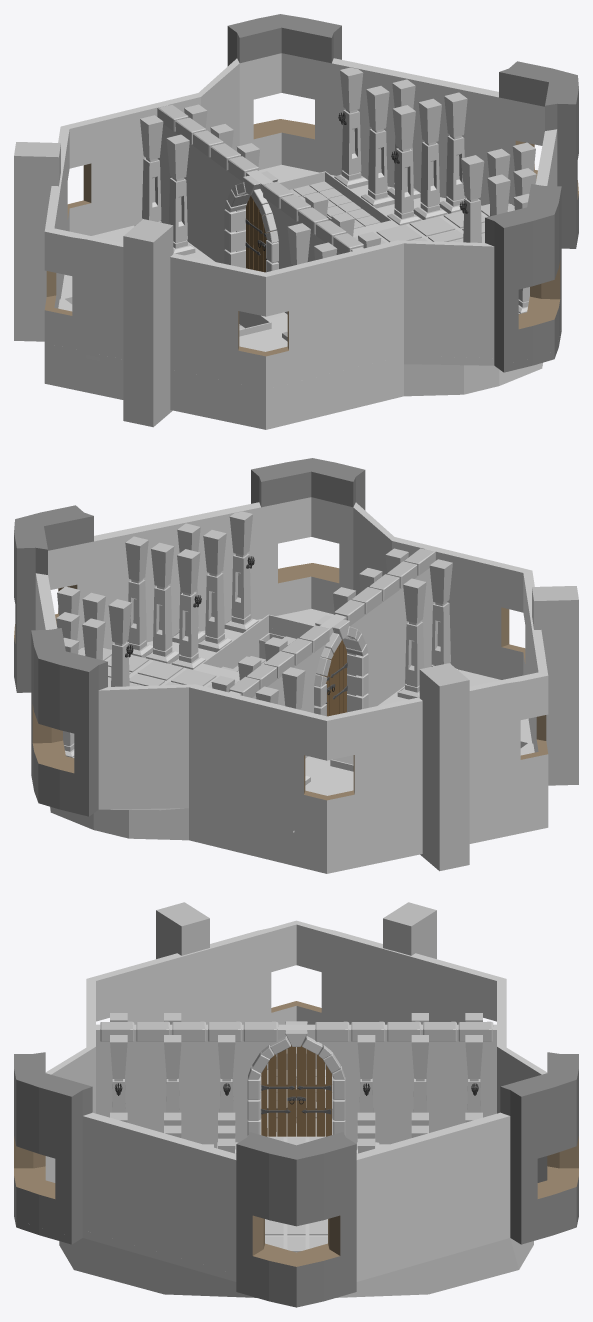
File: secondfloor.fbx
3 views of the same model, one above another, from view 1: azimuth 30°, elevation 25°; view 2: azimuth 150°, elevation 25°; view 3: azimuth 270°, elevation 25° (orthographic). The views are drawn at different scales.
Parts seen in each view (by area): view 1: SecondFloor, WALL3, WALL1, WALL2, lvl8; view 2: SecondFloor, WALL3, WALL2, WALL1; view 3: SecondFloor, WALL1, WALL2, WALL3.
Boxes of the visible parts, left/top/right/bottom form: SecondFloor: left=44, top=67, right=542, bottom=429; WALL3: left=14, top=126, right=265, bottom=429; WALL1: left=198, top=14, right=577, bottom=205; WALL2: left=397, top=75, right=578, bottom=372; lvl8: left=290, top=181, right=380, bottom=229; SecondFloor: left=50, top=511, right=544, bottom=873; WALL3: left=327, top=570, right=578, bottom=873; WALL2: left=15, top=458, right=394, bottom=649; WALL1: left=14, top=519, right=195, bottom=816; SecondFloor: left=59, top=979, right=533, bottom=1297; WALL1: left=296, top=1046, right=578, bottom=1307; WALL2: left=14, top=1046, right=296, bottom=1307; WALL3: left=87, top=902, right=505, bottom=1024.
Bounding box in the file's own units: 329 × 109 × 295.
